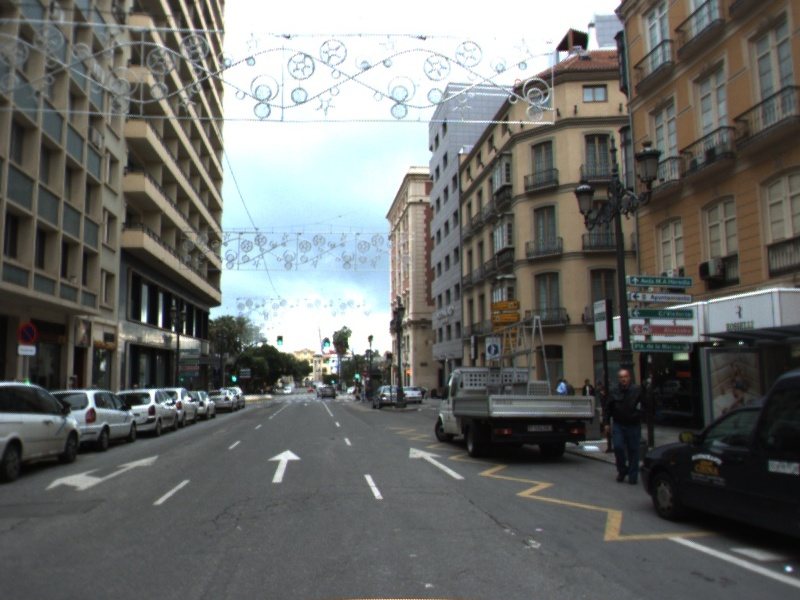STRAIGHT: (407, 444, 469, 481), (265, 447, 304, 485)
STRAIGHT_LEFT: (42, 452, 161, 493)
